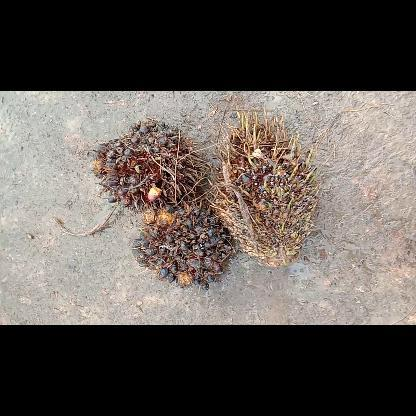TBS abnormal: (206, 105, 320, 265), (93, 118, 209, 212), (133, 200, 233, 290)
